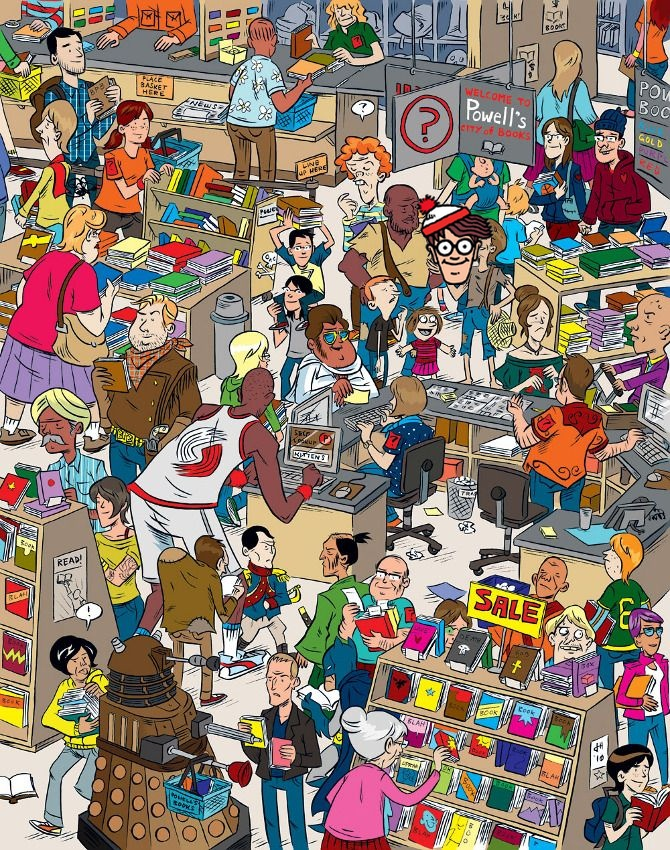waldo: (416, 194, 494, 285)
